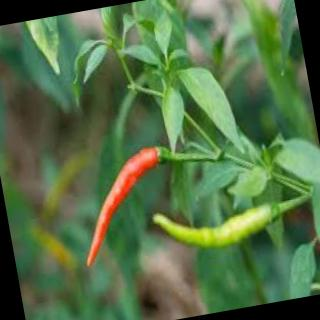Cabai Hijau: (152, 204, 287, 248)
Cabai Merah: (88, 148, 161, 268)
